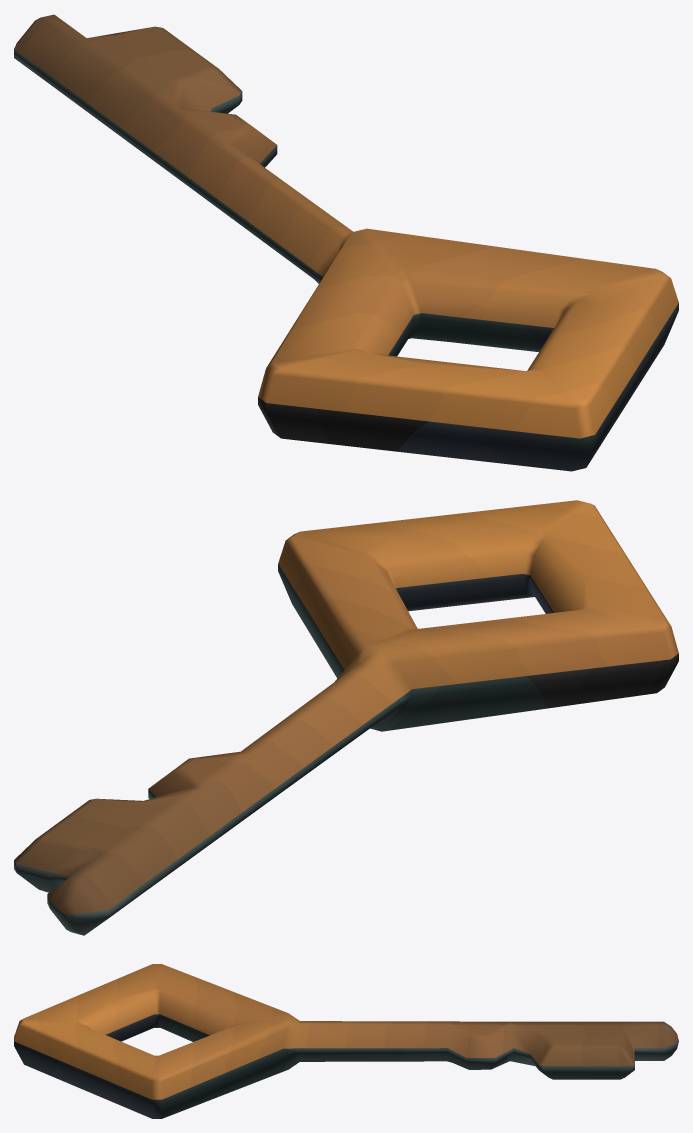
Rendered from Prop_PuzzleKey.glb.
3 views of the same model, one above another, from view 1: azimuth 30°, elevation 25°; view 2: azimuth 150°, elevation 25°; view 3: azimuth 270°, elevation 25° (orthographic). The views are drawn at different scales.
Visible parts, largest first — view 1: Prop_PuzzleKey; view 2: Prop_PuzzleKey; view 3: Prop_PuzzleKey.
Part boxes in pixels (x1,y1,x2,y2): Prop_PuzzleKey: (14, 14, 678, 471); Prop_PuzzleKey: (14, 500, 678, 935); Prop_PuzzleKey: (14, 964, 678, 1118).
Size of the model in its own units: 0.1434 by 0.0288 by 0.3328.
1 material, 1 textured.
